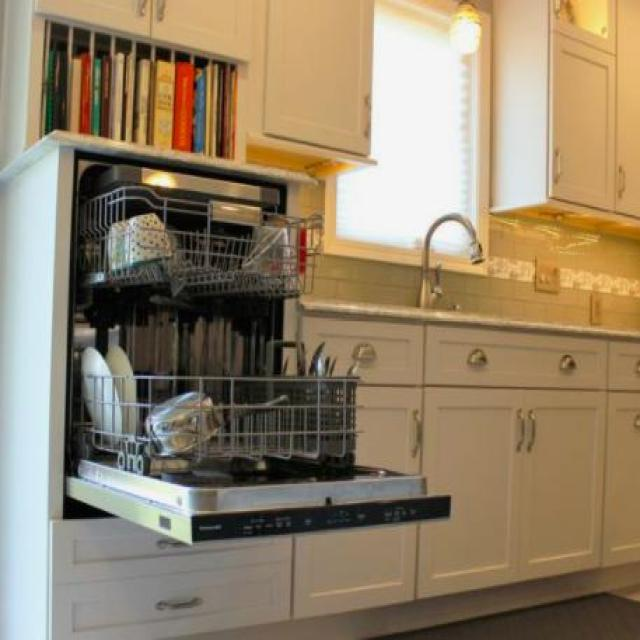dishwasher: (60, 138, 457, 552)
